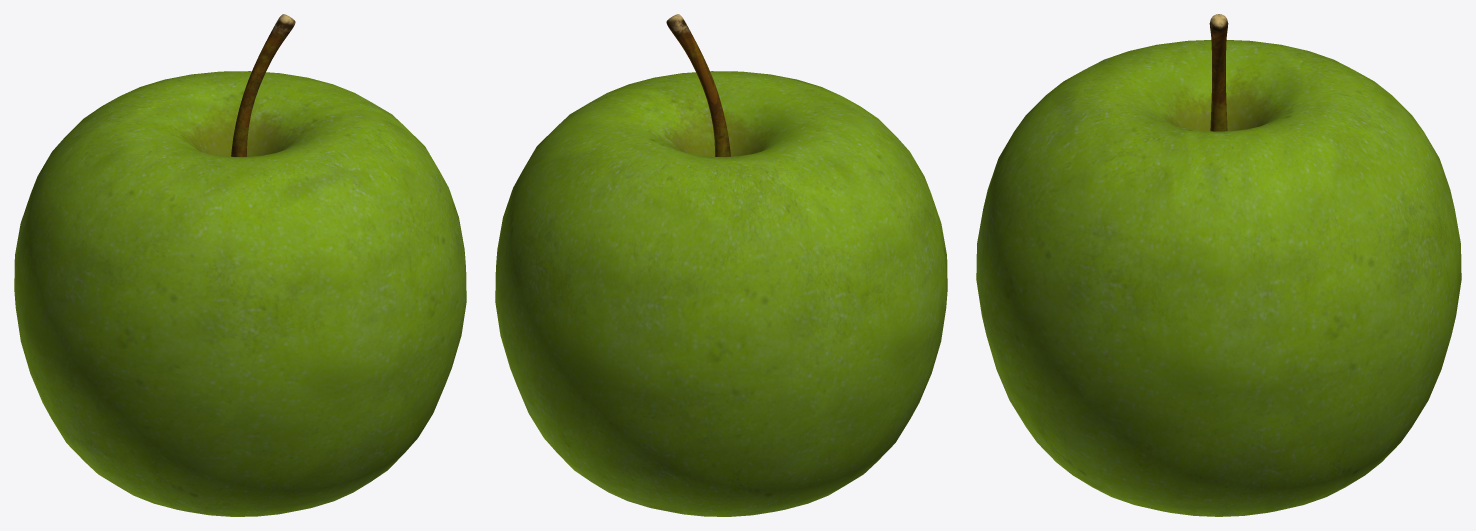
3 views of the same model, side by side, from view 1: azimuth 30°, elevation 25°; view 2: azimuth 150°, elevation 25°; view 3: azimuth 270°, elevation 25° (orthographic). The views are drawn at different scales.
Visible parts, largest first — view 1: apple; view 2: apple; view 3: apple.
Part boxes in pixels (x1,y1,x2,y2): apple: (14, 14, 466, 516); apple: (495, 14, 947, 516); apple: (976, 14, 1461, 516).
Size of the model in its own units: 0.0861 by 0.0938 by 0.0861.
1 material, 1 textured.
